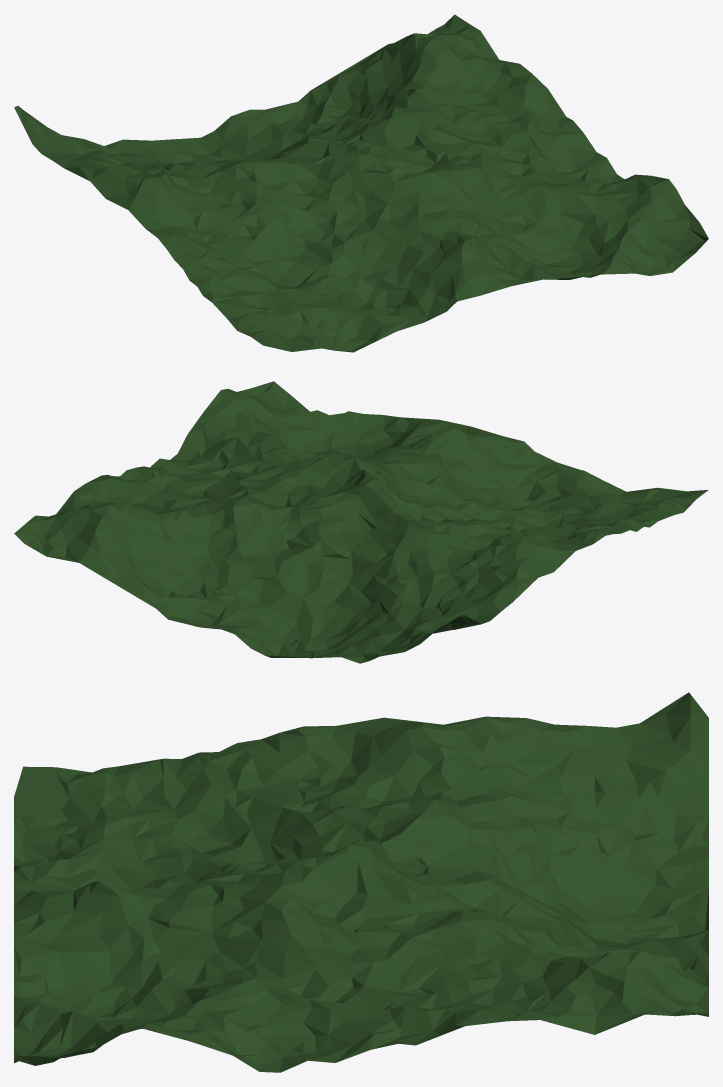
Rendered from SM_landscape_19.fbx.
The picture shows the model from 3 angles, top to bottom: view 1: azimuth 30°, elevation 25°; view 2: azimuth 150°, elevation 25°; view 3: azimuth 270°, elevation 25°; orthographic projection. The views are drawn at different scales.
Visible parts, largest first — view 1: landscape_19; view 2: landscape_19; view 3: landscape_19.
Part boxes in pixels (bbox=[...]): landscape_19: bbox=[14, 14, 708, 352]; landscape_19: bbox=[14, 381, 708, 663]; landscape_19: bbox=[14, 692, 708, 1072].
Size of the model in its own units: 2224 by 434 by 2224.
